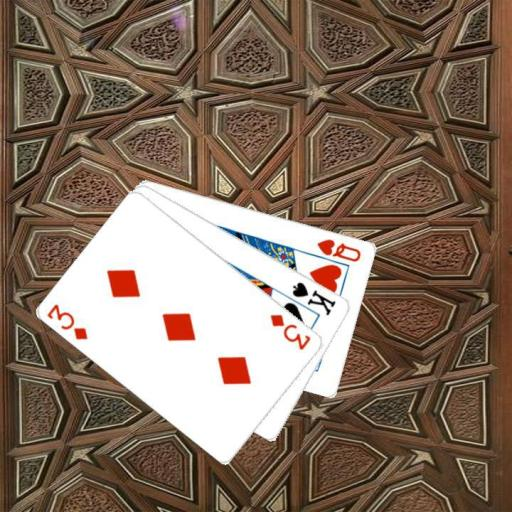3D: (267, 311, 313, 352), (44, 300, 90, 341)
KS: (289, 278, 338, 317)
QH: (314, 235, 363, 263)
